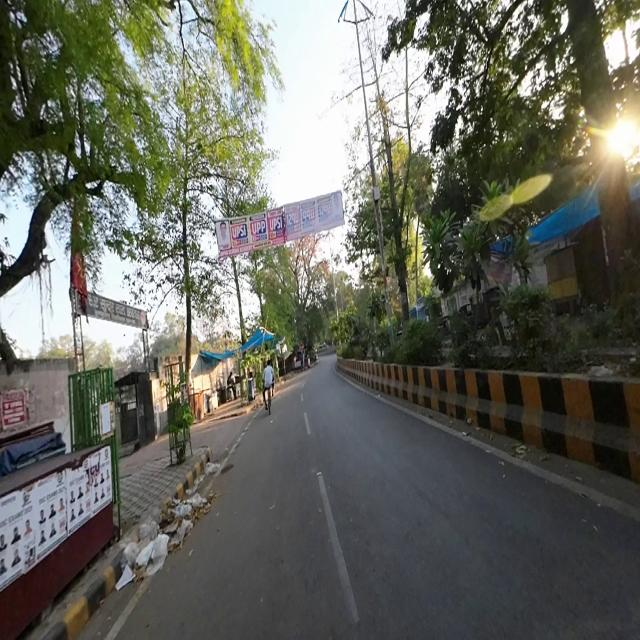Garbage: (119, 519, 172, 584), (167, 490, 201, 544), (205, 460, 222, 477)
